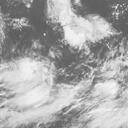cyclone: (0, 56, 50, 109)
